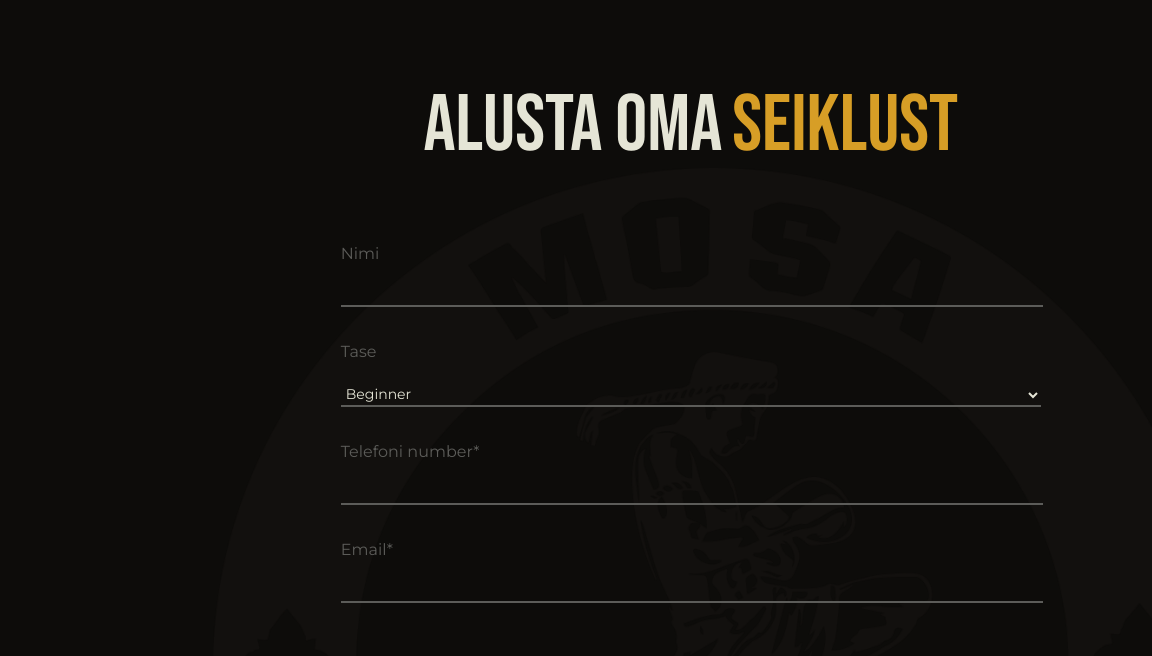
Scenario: TrainReg Component › should conditionally render fields for child registration
expect the field labelled "Vanus" is not shown: met
expect the field labelled "Lapse vanema nimi" is not shown: met
Select "Child" in the dropdown labelled "Tase". click: (691, 395)
box: [341,383,1041,407]
(page scrolled)
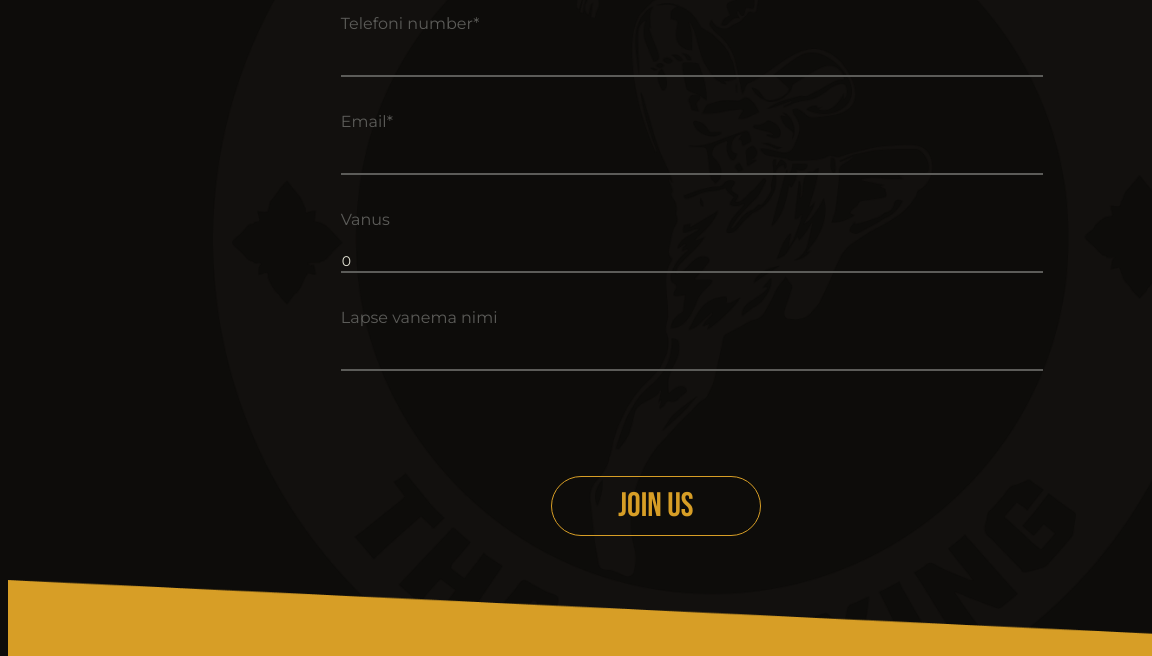
expect the number field labelled "Vanus" is shown: met, box [341,251,1043,273]
expect the field labelled "Lapse vanema nimi" is shown: met, box [341,349,1043,371]
